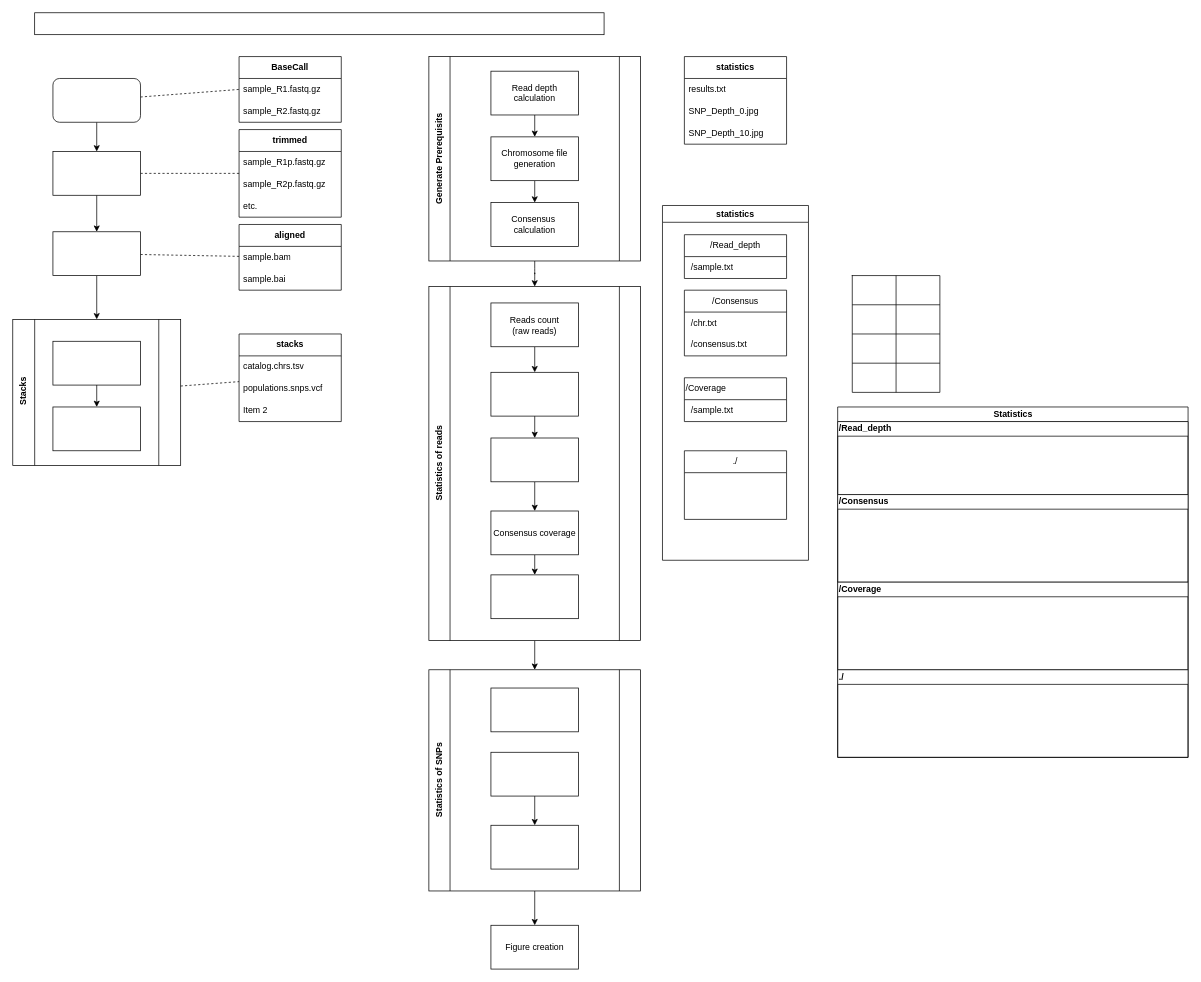
This 1201x982 diagram has some shape labels left out. The shapes that lost their labels are listed below. From the top down, each one's centre as x and y in pixels, then its label:
At point 319,23: "Basic settings".
At point 96,100: "Origin data file".
At point 96,173: "Trimming".
At point 96,253: "Mapping".
At point 96,363: "gstacks".
At point 534,394: "Reads count (trimmed reads)".
At point 96,428: "Population".
At point 534,459: "Mapped reads coverage".
At point 534,596: "SNP calculation".
At point 534,709: "Filtering (SNP dpeth)".
At point 534,774: "SNP count".
At point 534,847: "SNP density".
